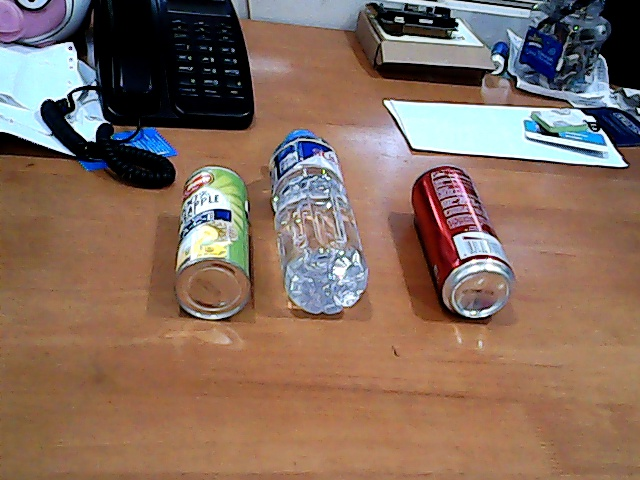Cola: (398, 155, 529, 336)
Pine Juice: (165, 157, 265, 340)
Summit Water: (261, 112, 382, 333)
